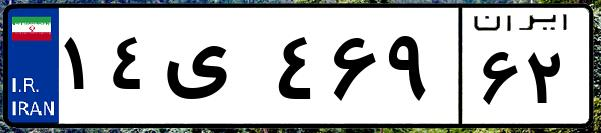1: (57, 26, 110, 100)
2: (525, 38, 570, 115)
4: (270, 28, 330, 110), (110, 28, 158, 98)
6: (330, 28, 385, 110), (475, 38, 525, 113)
9: (385, 28, 445, 110)
ی: (158, 20, 270, 120)
